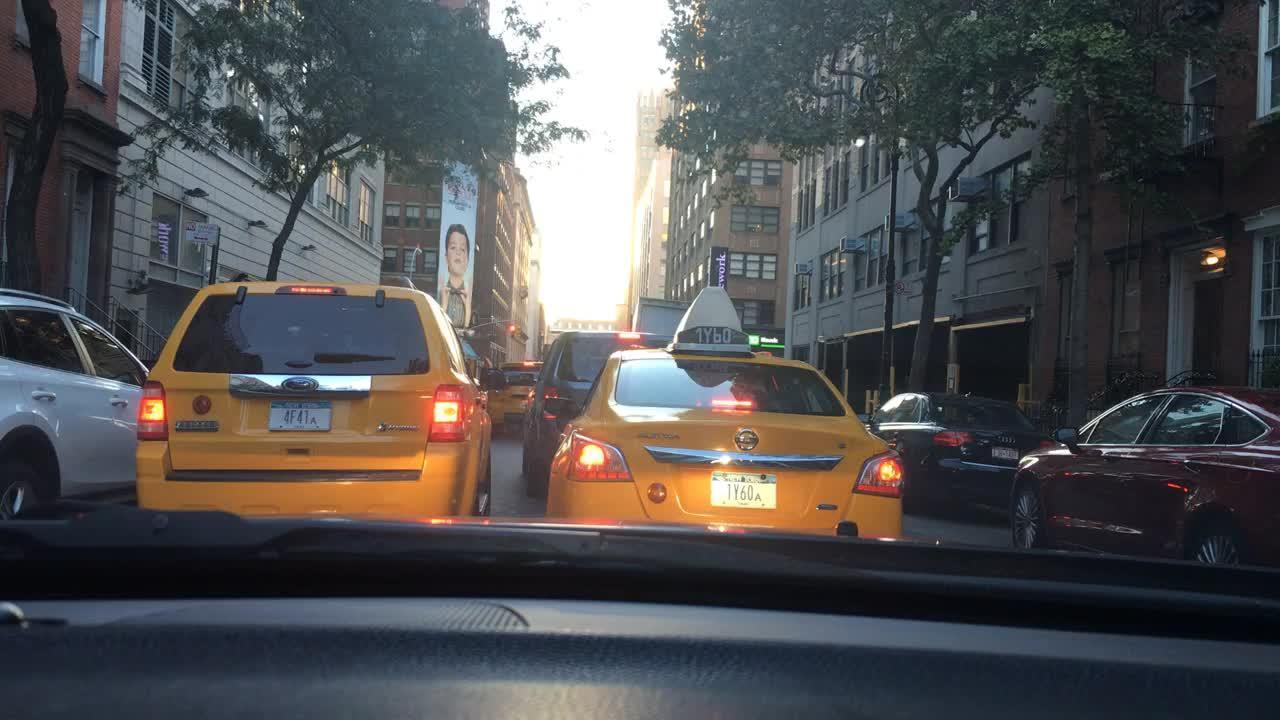Audi: (994, 433, 1025, 448)
Nissan: (730, 426, 765, 452)
ford: (271, 367, 329, 398)
